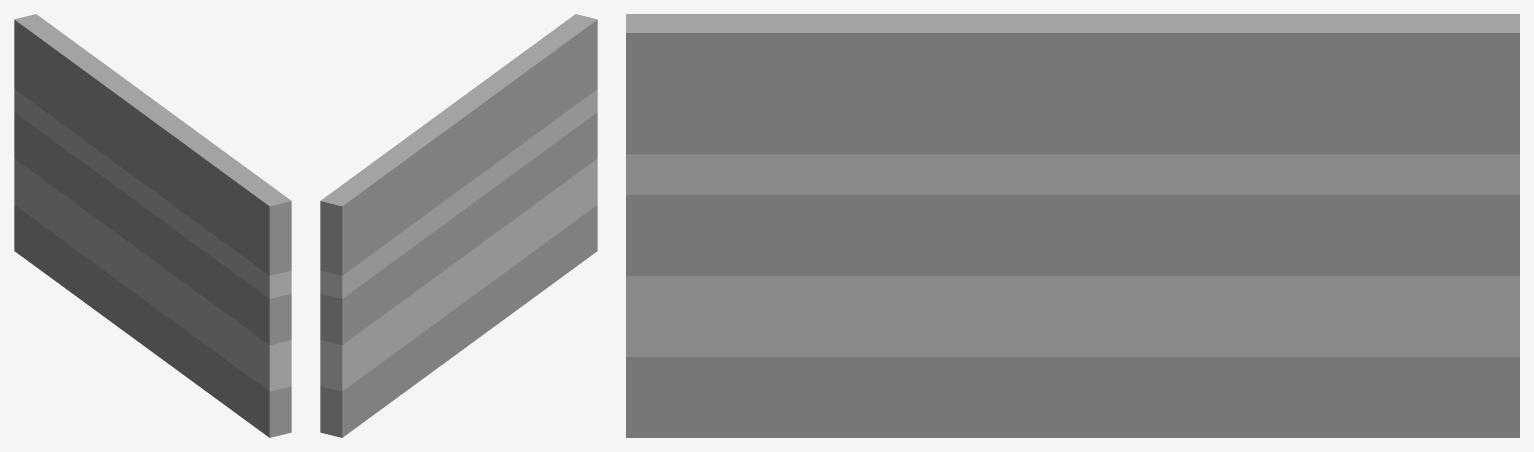
The model's file is dirt_wall_C_20.obj.
3 renders of one model, left to right at view 1: azimuth 30°, elevation 25°; view 2: azimuth 150°, elevation 25°; view 3: azimuth 270°, elevation 25°, orthographic. The views are drawn at different scales.
Bounding box in the file's own units: 0.1 × 1 × 2.
Materials: 1 (1 with a texture image).
